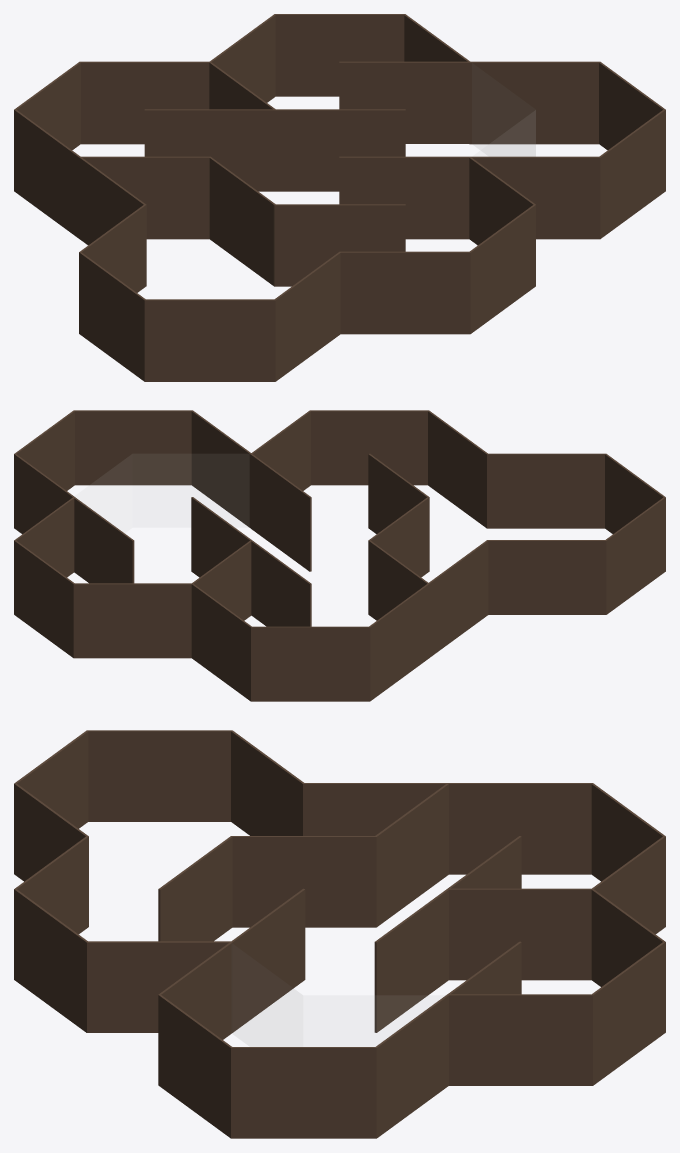
File: Walls.dae
3 views of the same model, one above another, from view 1: azimuth 30°, elevation 25°; view 2: azimuth 150°, elevation 25°; view 3: azimuth 270°, elevation 25° (orthographic). The views are drawn at different scales.
Parts seen in each view (by area): view 1: Main_Room; view 2: Main_Room; view 3: Main_Room.
Part boxes in pixels (box(x1,y1,x2,y2)): Main_Room: box(14, 14, 665, 381); Main_Room: box(14, 410, 665, 701); Main_Room: box(14, 730, 665, 1138).
Bounding box in the file's own units: 30.1 × 26.09 × 4.
